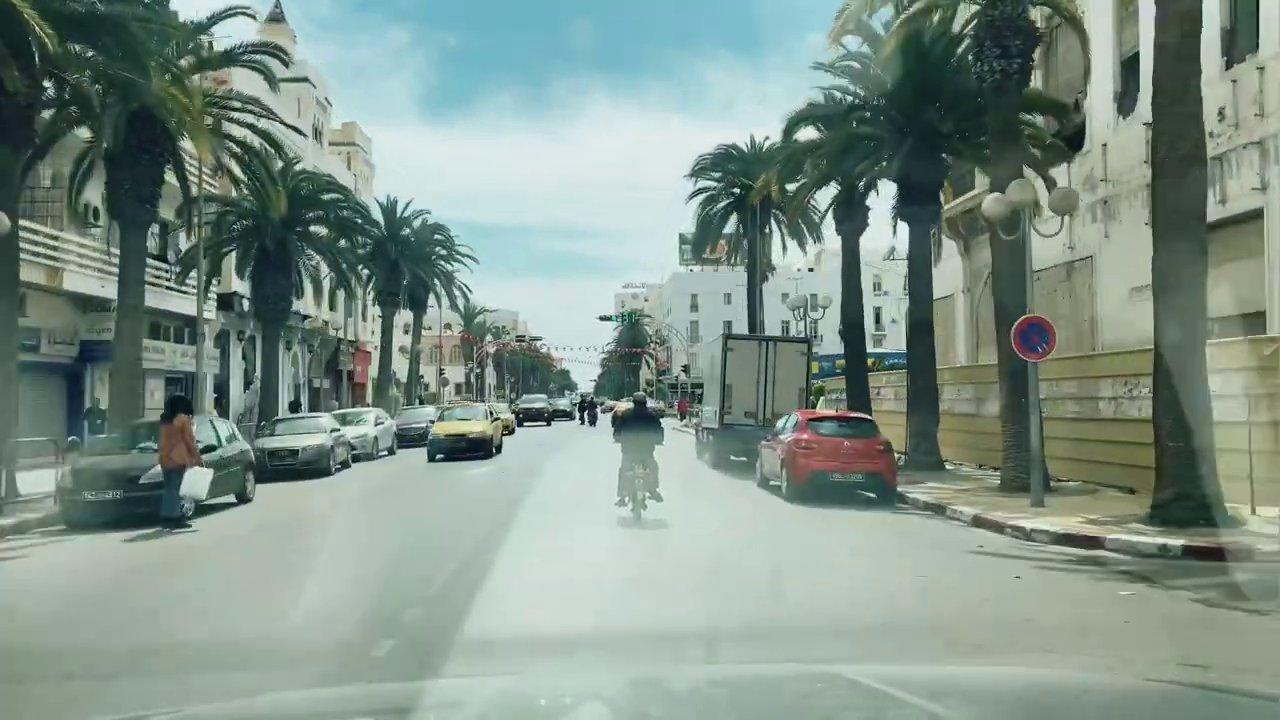no stopping: (1005, 308, 1058, 364)
